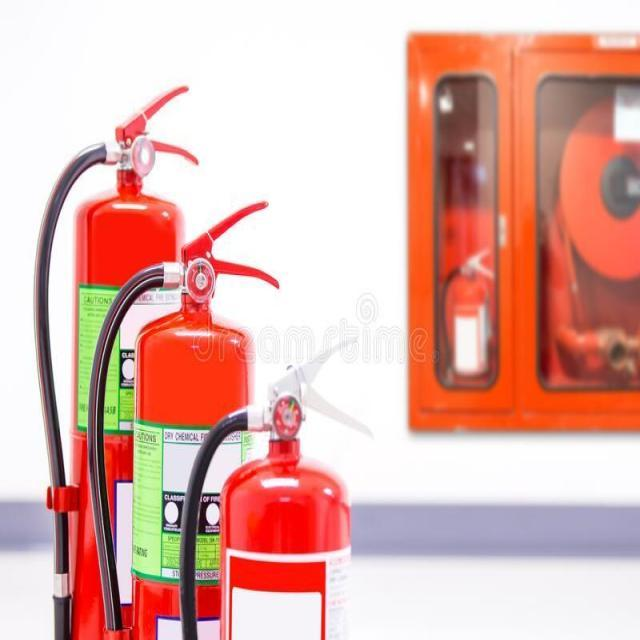fire_extinguisher: (28, 81, 202, 638), (84, 196, 282, 639), (174, 328, 376, 639), (438, 238, 498, 403)
